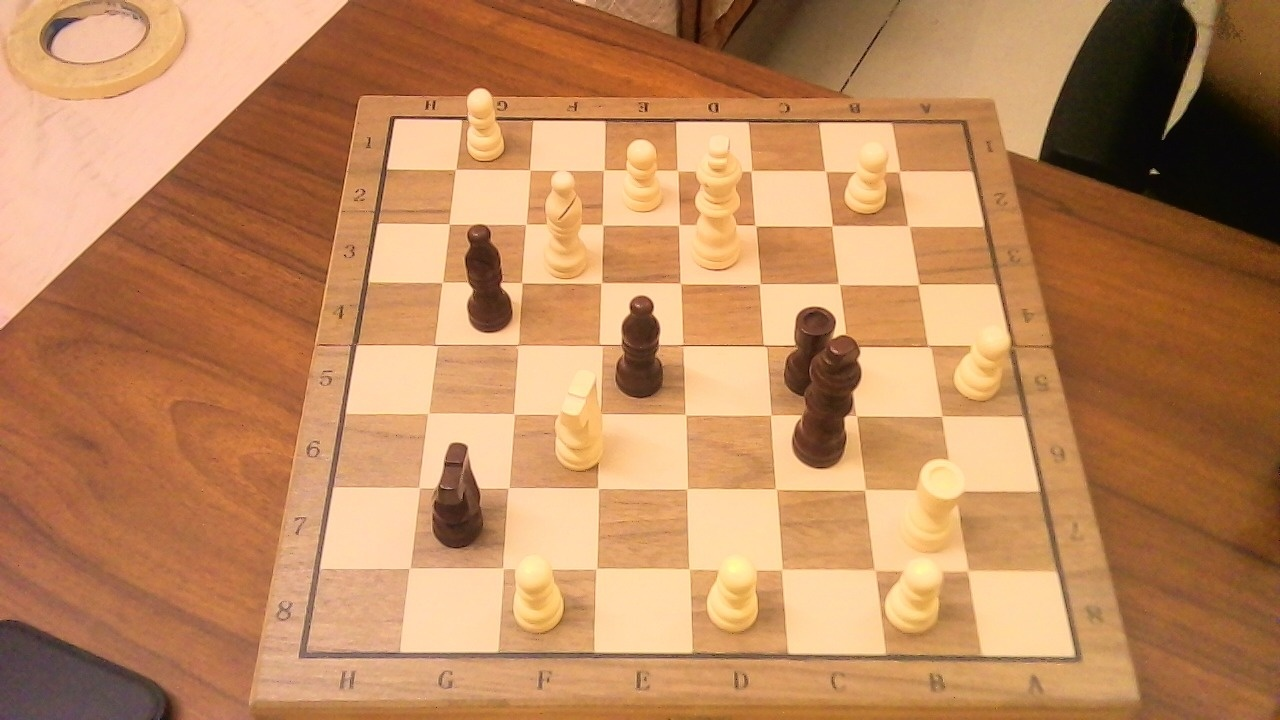B: (533, 159, 596, 282)
K: (684, 123, 753, 276)
N: (544, 358, 611, 475)
P: (505, 544, 572, 638), (699, 544, 767, 636), (947, 316, 1018, 404), (882, 547, 951, 636), (837, 132, 897, 217), (612, 130, 669, 217), (460, 80, 511, 165)
R: (892, 448, 972, 556)
b: (453, 209, 520, 337), (608, 282, 677, 401)
k: (783, 323, 876, 475)
n: (421, 428, 497, 551)
r: (776, 293, 848, 399)
